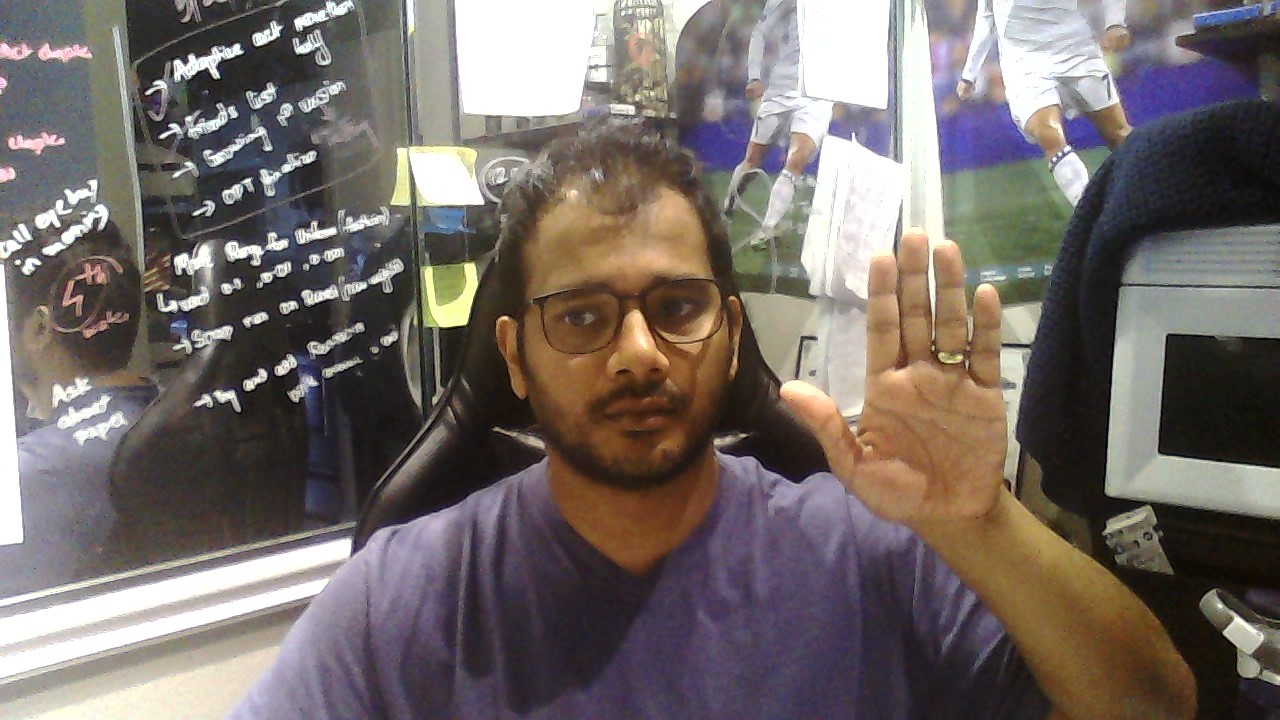Hello: (779, 227, 1009, 520)
